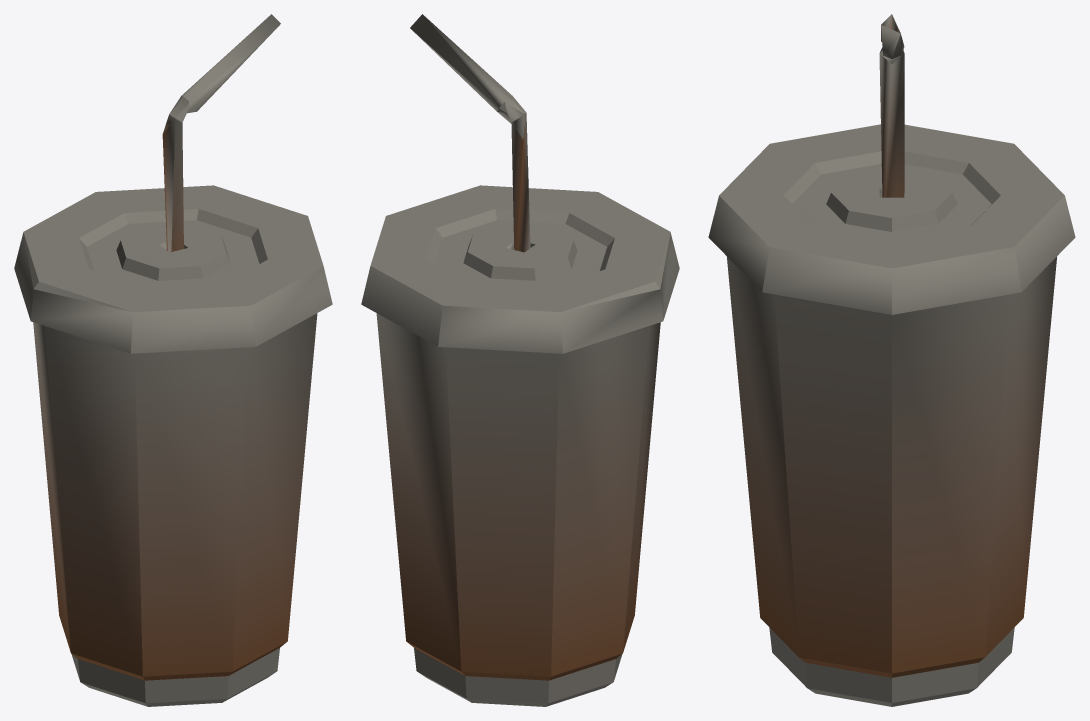
The model's file is cc0-soda-lod1.glb.
3 renders of one model, left to right at view 1: azimuth 30°, elevation 25°; view 2: azimuth 150°, elevation 25°; view 3: azimuth 270°, elevation 25°, orthographic. The views are drawn at different scales.
Visible parts, largest first — view 1: part_0; view 2: part_0; view 3: part_0.
Part boxes in pixels (<box>): part_0: <box>14,14,332,706</box>; part_0: <box>361,14,679,706</box>; part_0: <box>708,14,1075,706</box>.
Bounding box in the file's own units: 0.9118 × 1.92 × 0.9118.
